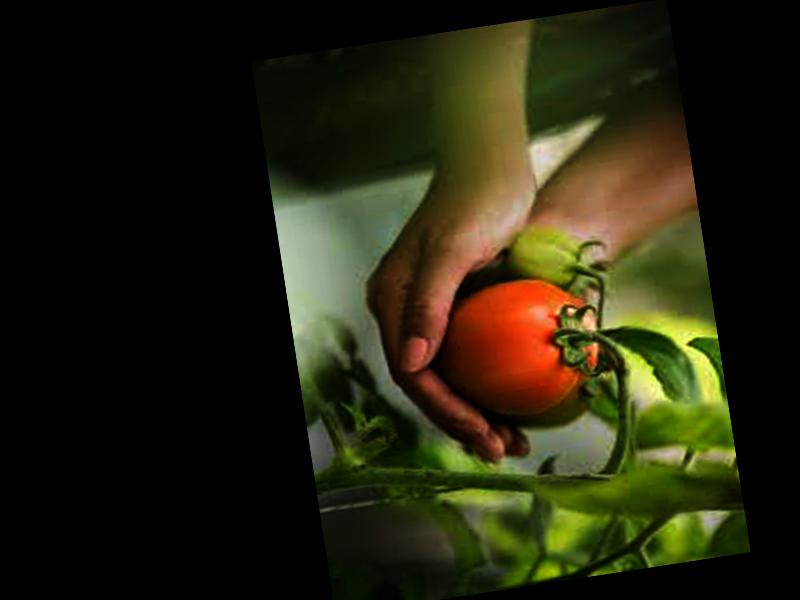Tomato: (434, 269, 606, 423)
